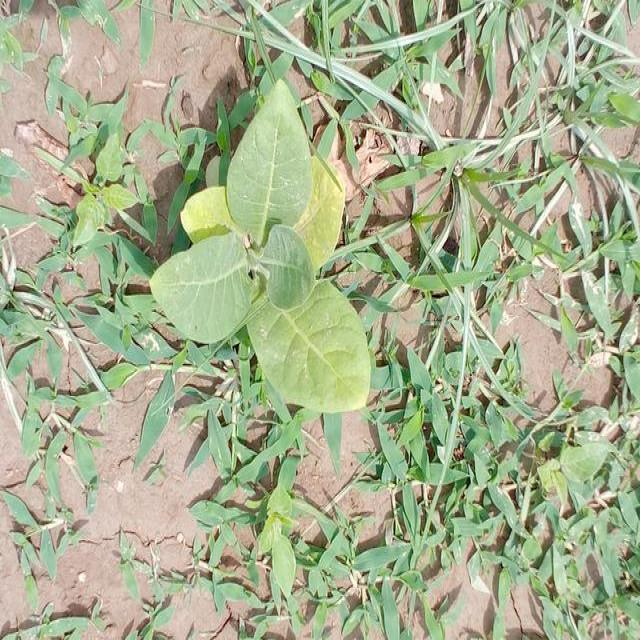crop: (173, 103, 372, 415)
